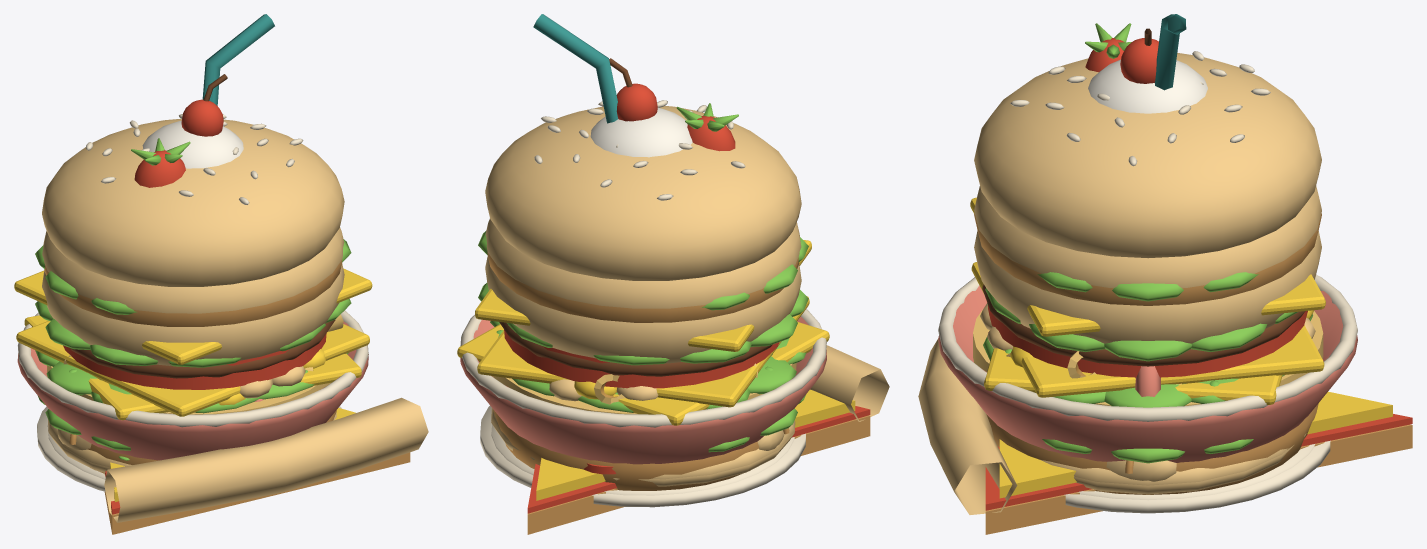
The model's file is restaurant-products.glb.
3 renders of one model, left to right at view 1: azimuth 30°, elevation 25°; view 2: azimuth 150°, elevation 25°; view 3: azimuth 270°, elevation 25°, orthographic. The views are drawn at different scales.
Visible parts, largest first — view 1: food_doubleburger_0, food_pizza_3, food_chickenburger_0, food_burger_0, food_penne_0, food_doubleburger_2, food_penne_1, food_burger_3, food_veggieburger_0, food_burger_4, food_chickenburger_4, food_icecream_3 (+13 smaller); view 2: food_doubleburger_0, food_chickenburger_0, food_penne_0, food_burger_0, food_penne_1, food_doubleburger_2, food_cinnamonroll_0, food_donut_0, food_burger_3, food_veggieburger_0, food_icecream_3, food_pizza_3 (+17 smaller); view 3: food_doubleburger_0, food_penne_0, food_chickenburger_0, food_burger_0, food_penne_1, food_pizza_3, food_doubleburger_2, food_burger_3, food_pizza_0, food_pizza_2, food_veggieburger_0, food_cinnamonroll_0 (+18 smaller).
Part boxes in pixels (x1,y1,x2,y2): food_doubleburger_0: (42, 118, 344, 286); food_pizza_3: (104, 397, 428, 522); food_chickenburger_0: (42, 227, 344, 472); food_burger_0: (42, 263, 344, 467); food_penne_0: (17, 321, 368, 460); food_doubleburger_2: (14, 268, 372, 420); food_penne_1: (17, 310, 368, 427); food_burger_3: (16, 321, 369, 416); food_veggieburger_0: (44, 260, 342, 326); food_burger_4: (63, 333, 326, 389); food_chickenburger_4: (35, 298, 351, 367); food_icecream_3: (142, 121, 243, 168); food_doubleburger_0: (485, 106, 801, 280); food_chickenburger_0: (485, 219, 801, 486); food_penne_0: (460, 316, 826, 464); food_burger_0: (485, 256, 801, 479); food_penne_1: (460, 309, 826, 427); food_doubleburger_2: (457, 240, 829, 425); food_cinnamonroll_0: (480, 405, 805, 507); food_donut_0: (493, 410, 758, 490); food_burger_3: (477, 296, 809, 407); food_veggieburger_0: (487, 252, 799, 322); food_icecream_3: (590, 107, 692, 157); food_pizza_3: (810, 345, 889, 421); food_doubleburger_0: (974, 52, 1321, 258); food_penne_0: (938, 285, 1357, 462); food_chickenburger_0: (974, 185, 1321, 494); food_burger_0: (974, 230, 1321, 485); food_penne_1: (938, 274, 1357, 421); food_pizza_3: (918, 338, 1017, 514); food_doubleburger_2: (970, 197, 1325, 404); food_burger_3: (971, 262, 1324, 397); food_pizza_0: (985, 424, 1412, 534); food_pizza_2: (999, 391, 1392, 498); food_veggieburger_0: (974, 213, 1321, 305); food_cinnamonroll_0: (1064, 440, 1330, 513).
Bounding box in the file's own units: 0.3665 × 0.4606 × 0.426.
